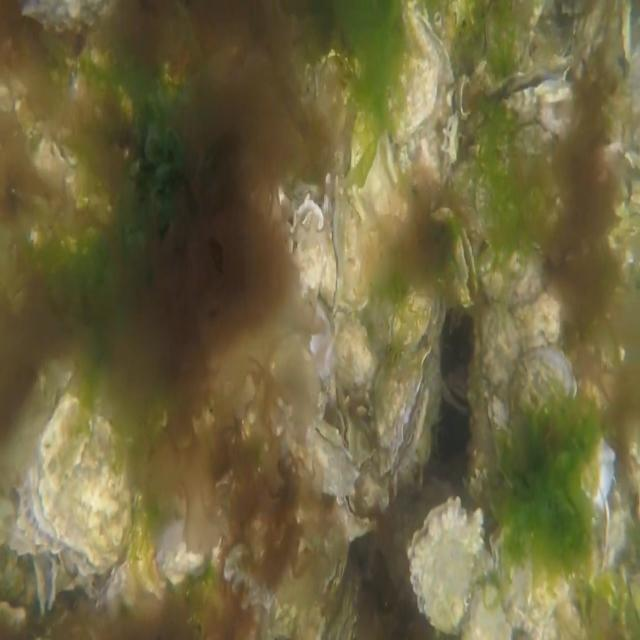Oyster-Closed: (490, 512, 570, 631), (278, 419, 360, 507), (376, 348, 433, 474), (324, 172, 342, 312), (334, 492, 379, 544)
Oyster-Indeterminate: (28, 394, 130, 576), (512, 346, 618, 508), (407, 495, 485, 634), (349, 104, 404, 264), (384, 0, 440, 143), (476, 300, 522, 474), (477, 234, 548, 309), (331, 312, 374, 424), (390, 281, 448, 364), (340, 185, 369, 316)
Oyster-Open: (486, 66, 580, 162), (288, 195, 324, 294), (455, 228, 480, 308)
